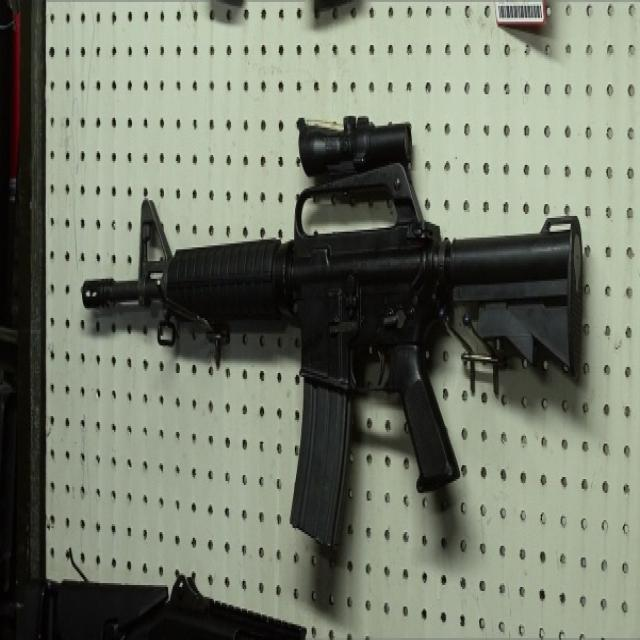rifle: (76, 100, 590, 562)
